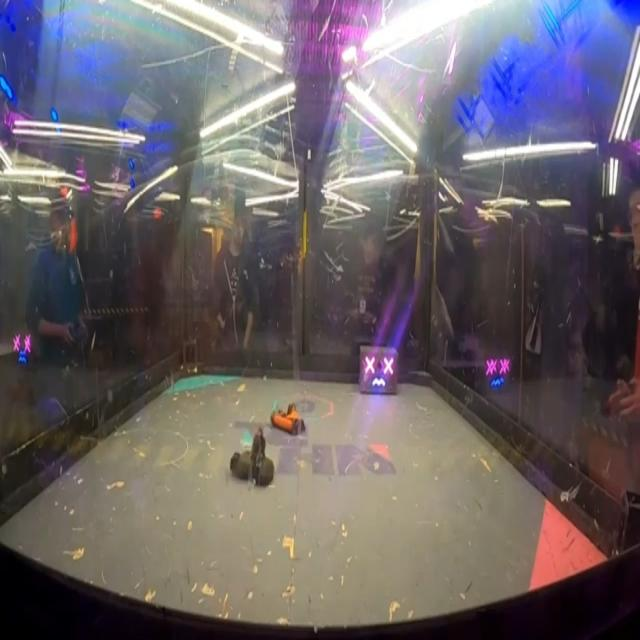brick: (356, 341, 400, 397)
